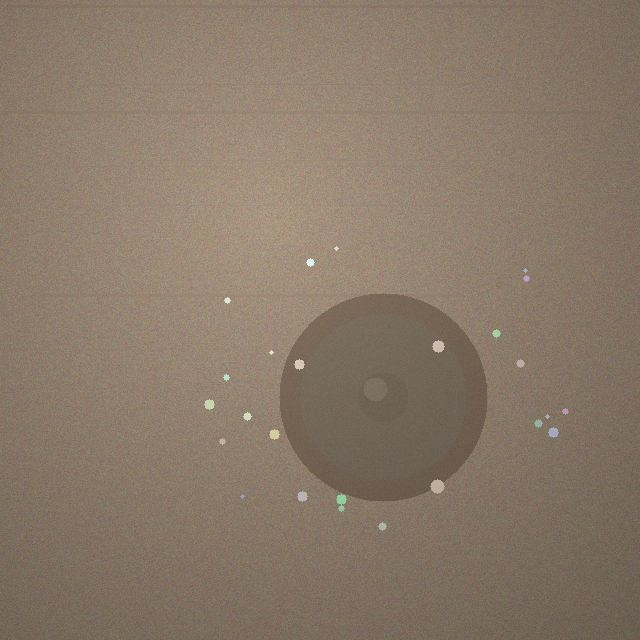overburn: (279, 293, 487, 501)
